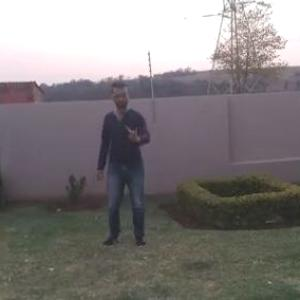takeoff-hand: (118, 118, 148, 148)
